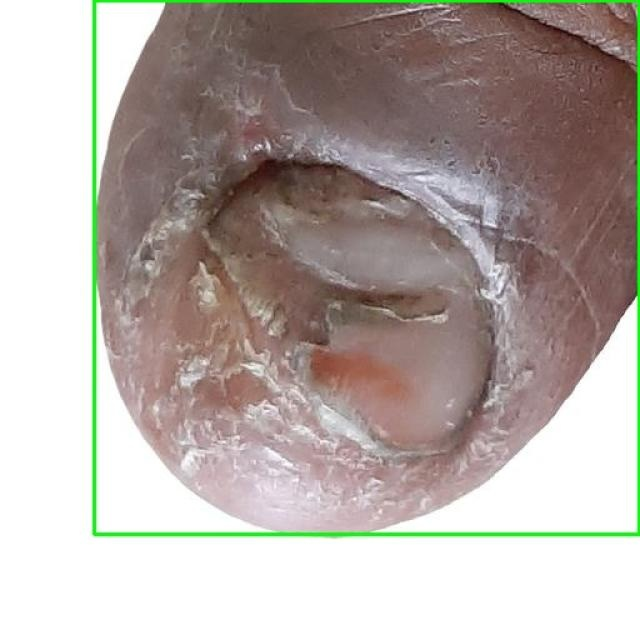Contact Dermatitis: (94, 0, 639, 534)
